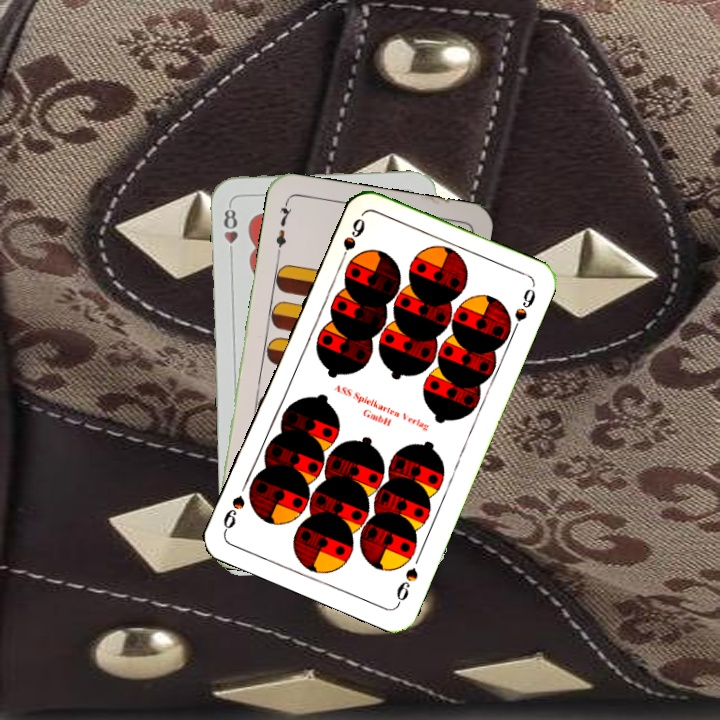E7: (271, 197, 295, 256)
H8: (220, 200, 240, 259)
S9: (335, 214, 368, 268), (392, 563, 421, 607)
